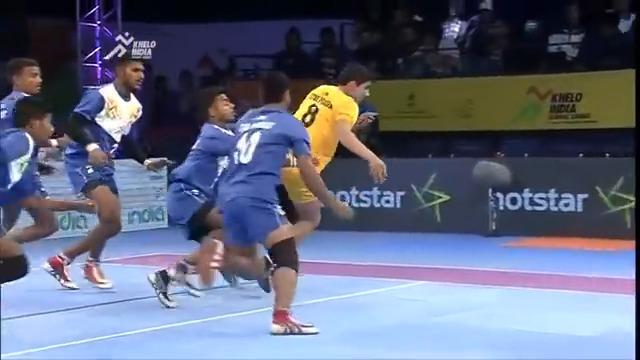Player: (209, 69, 354, 335), (42, 31, 173, 290), (146, 87, 272, 309), (0, 94, 96, 285)
Raider: (261, 61, 388, 293)
